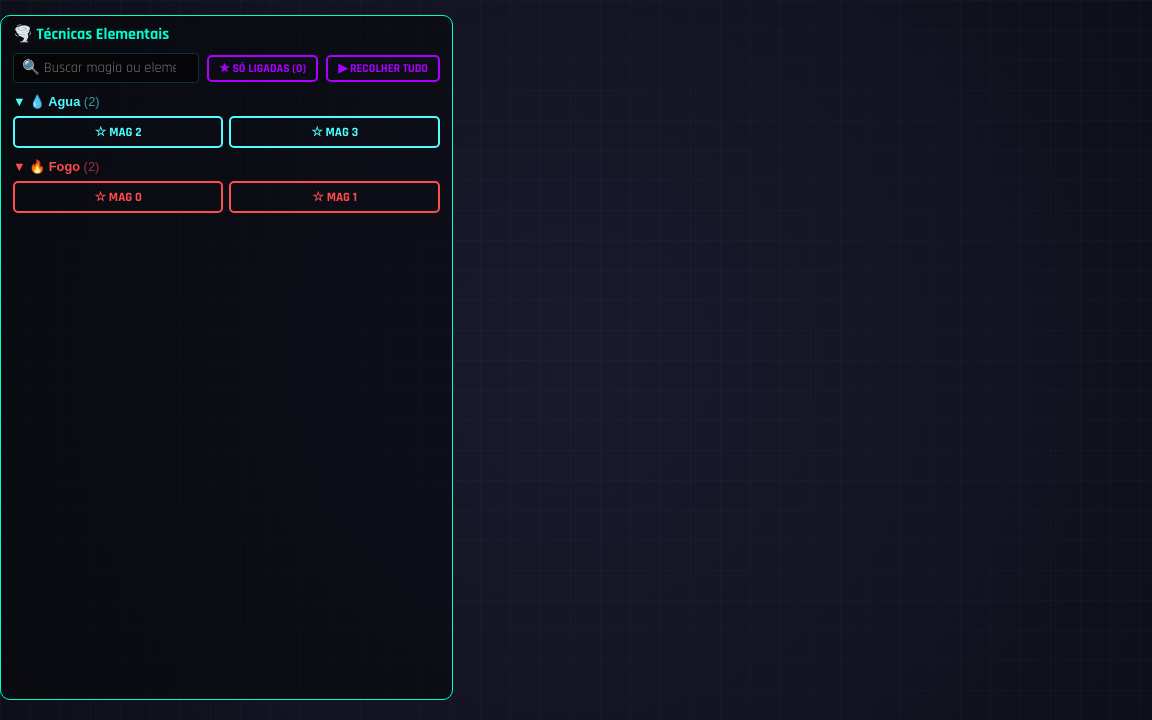
MapaMagiasElementais - "★ Só ligadas (n)" › sem nenhuma memorizada: "Nenhuma magia memorizada."
Click the button "★ Só ligadas (0)".
click(263, 68)  # box [207,54,318,82]
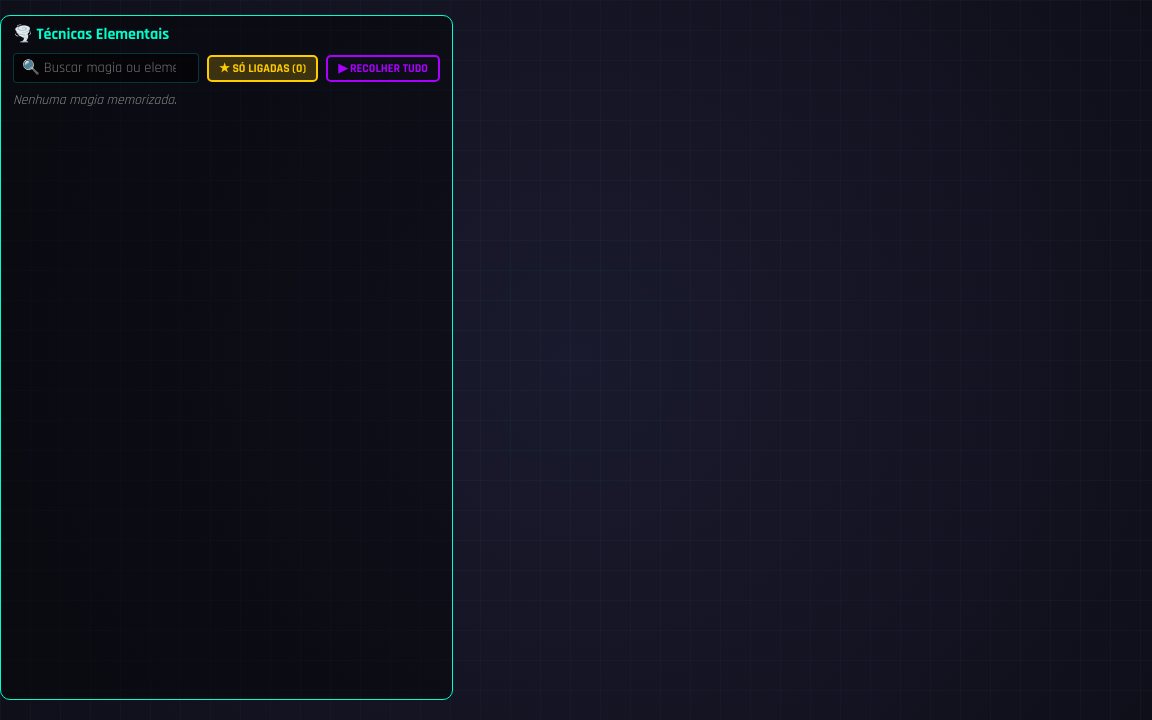
Expected: the text "Nenhuma magia memorizada." is shown, [13,91,177,109]
